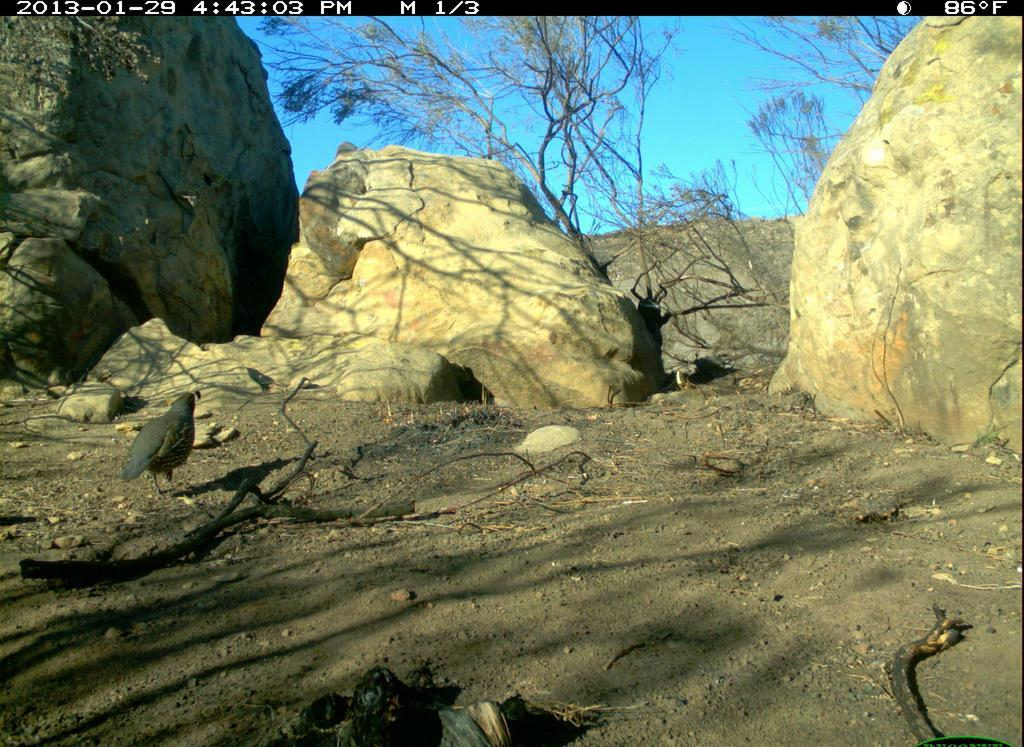bird: (109, 379, 218, 506)
